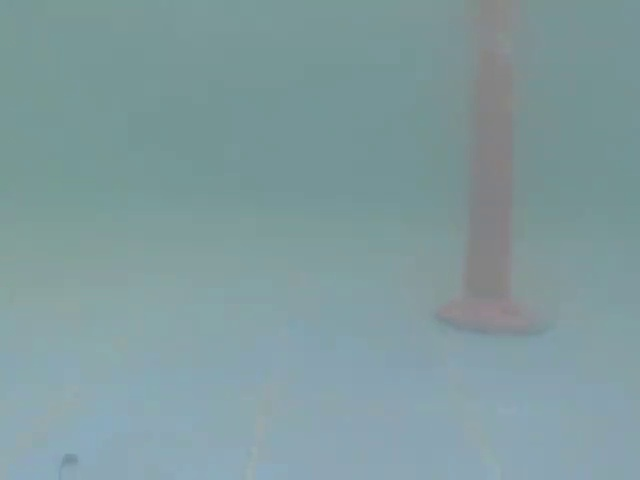flare: (428, 0, 550, 332)
